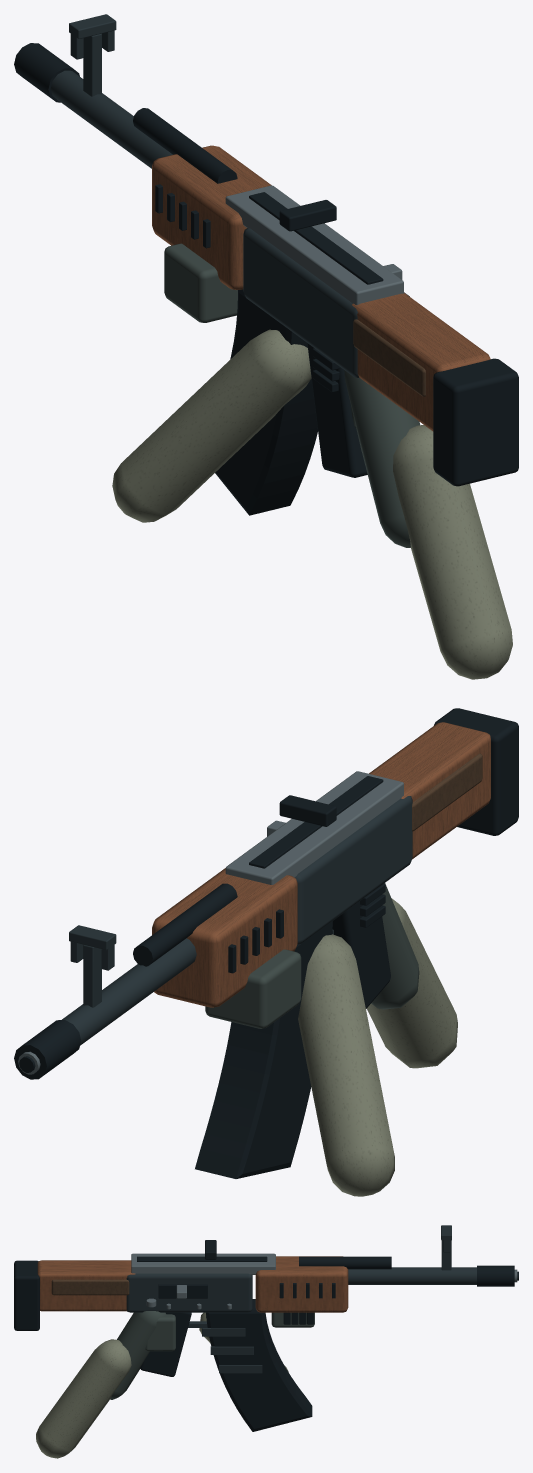
Rendered from weapon-rifle.glb.
3 renders of one model, top to bottom at view 1: azimuth 30°, elevation 25°; view 2: azimuth 150°, elevation 25°; view 3: azimuth 270°, elevation 25°, orthographic. The views are drawn at different scales.
Size of the model in its own units: 0.4392 by 0.8341 by 1.75.
Materials: 7 (3 with a texture image).
